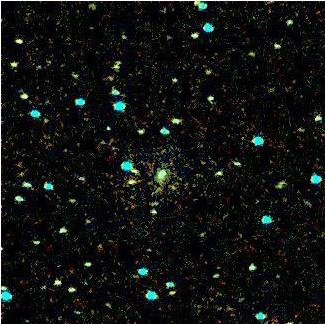star: (159, 173, 189, 203)
